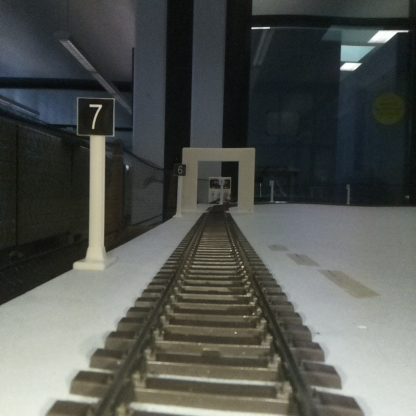black-info-6: (174, 162, 186, 217)
black-info-7: (78, 97, 114, 267)
